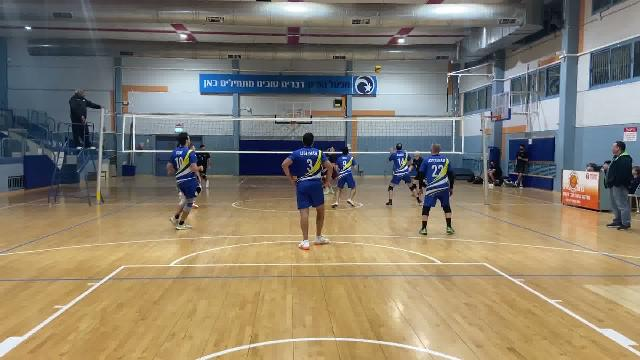ball: (373, 64, 383, 73)
